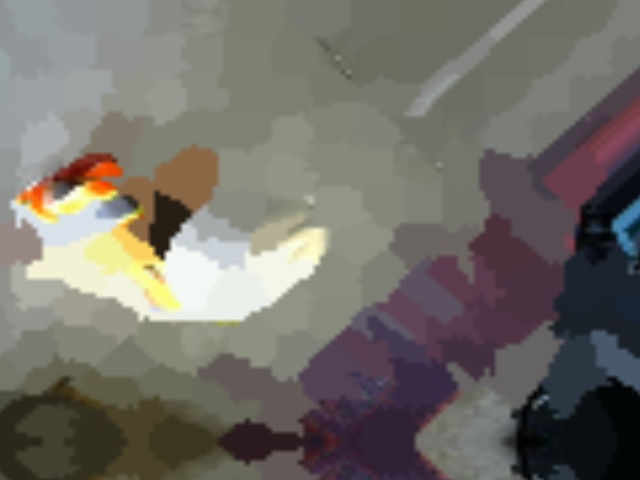three: (198, 256, 268, 309)
